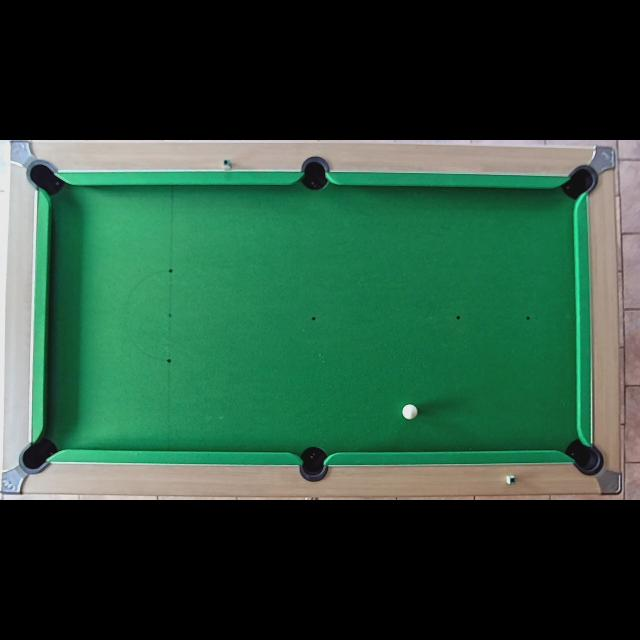Ball: (402, 404, 418, 420)
